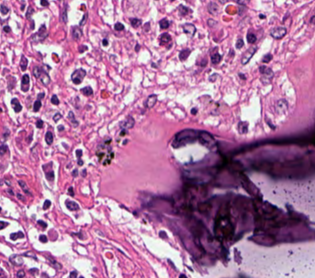nucleus: (173, 129, 197, 146), (33, 66, 49, 84), (31, 24, 47, 41), (241, 46, 256, 64), (259, 65, 273, 82), (199, 132, 214, 147), (71, 69, 85, 84), (270, 27, 286, 38), (121, 116, 134, 129), (276, 99, 287, 113), (68, 111, 78, 126), (183, 23, 195, 35), (71, 26, 82, 39), (145, 94, 156, 107), (179, 48, 190, 60), (159, 33, 170, 44), (178, 5, 190, 15), (66, 200, 78, 210), (211, 52, 221, 63), (130, 18, 141, 27), (81, 86, 92, 95), (45, 131, 52, 144), (159, 19, 169, 28), (247, 33, 256, 43), (33, 100, 41, 111), (262, 53, 271, 62), (239, 122, 247, 132), (79, 14, 86, 25), (114, 22, 123, 30), (236, 38, 243, 48), (53, 113, 61, 121), (51, 95, 58, 104), (36, 119, 43, 128), (46, 171, 53, 180), (43, 200, 50, 209), (38, 220, 46, 227), (61, 10, 66, 21), (79, 45, 86, 52), (37, 92, 44, 99), (119, 129, 126, 136), (39, 235, 46, 242), (40, 0, 48, 6), (76, 149, 82, 157), (144, 23, 149, 31), (68, 187, 73, 195), (239, 73, 245, 79), (159, 231, 165, 237), (72, 169, 77, 176), (102, 39, 107, 45), (191, 108, 196, 114), (135, 44, 139, 51), (58, 125, 63, 130), (310, 15, 313, 23), (78, 159, 82, 165), (82, 169, 85, 176), (260, 14, 264, 18), (123, 140, 127, 144)
